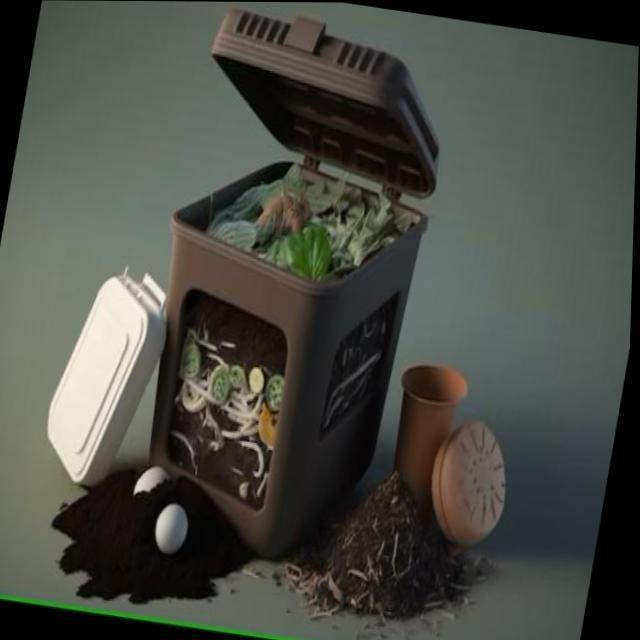Garbage: (208, 162, 421, 279)
